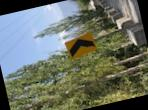right_turn: (40, 96, 65, 110)
